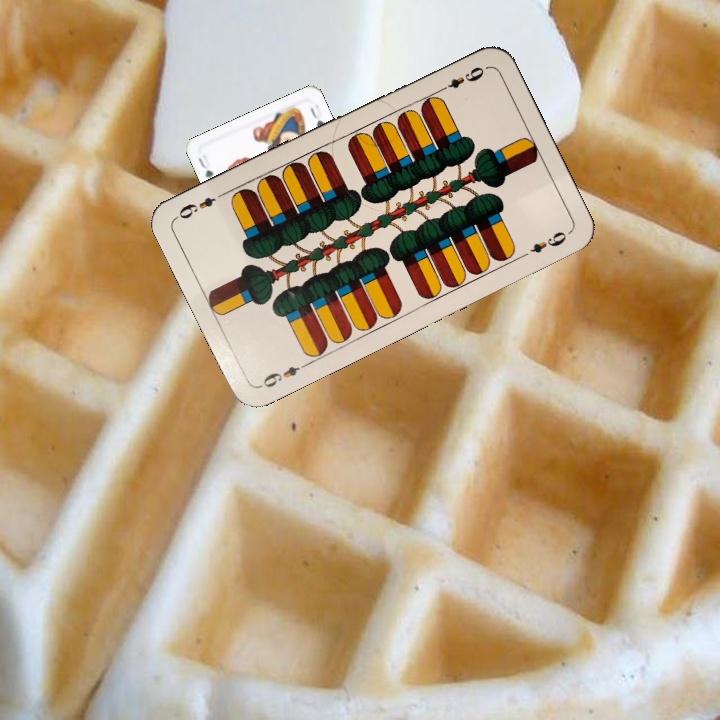E9: (434, 62, 489, 95), (256, 358, 312, 390)
GU: (194, 150, 216, 181)
